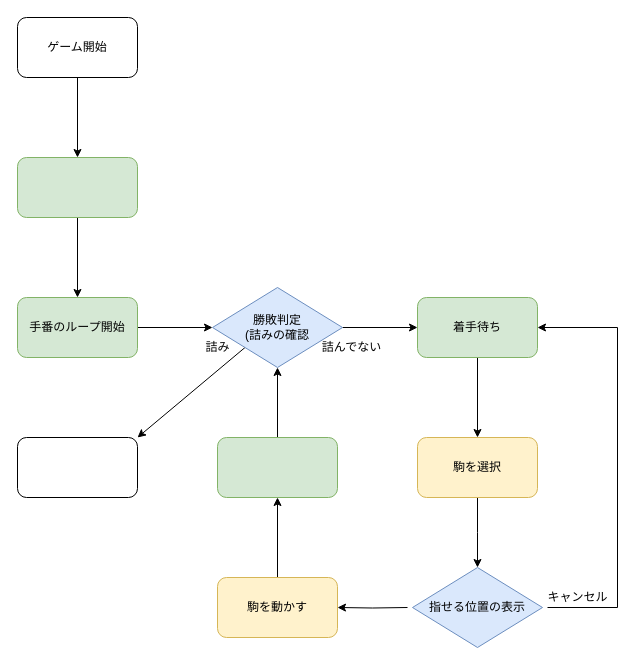
Some shapes in this 643 by 665 pixel diagram are drawn without their labels. The shapes that lost their labels are listed below. From the top down, each one's centre as x and y in pixels, then its label:
At point 77,187: "手番決め".
At point 77,467: "詰み (ゲーム終了)".
At point 277,467: "手番を渡す".
